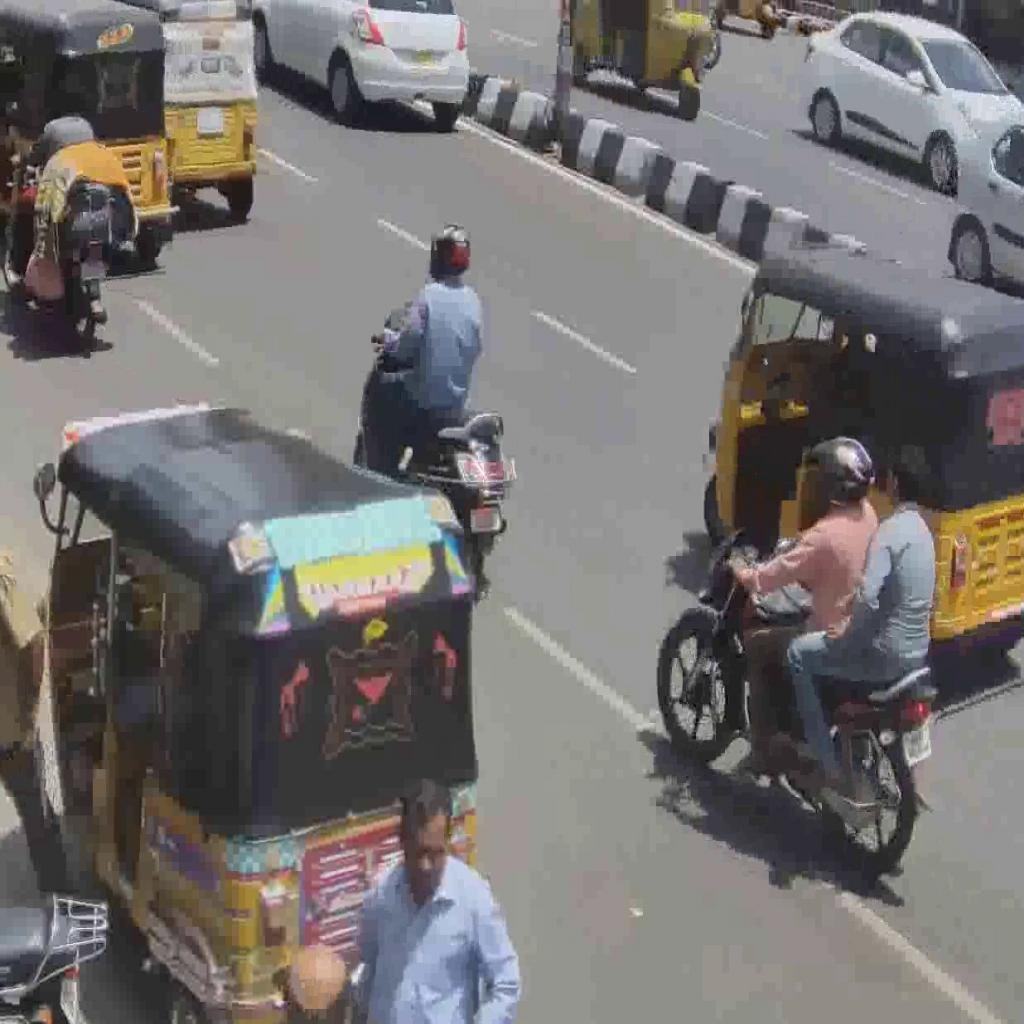helmet: (655, 522, 939, 876), (354, 301, 514, 580), (2, 138, 112, 348)
